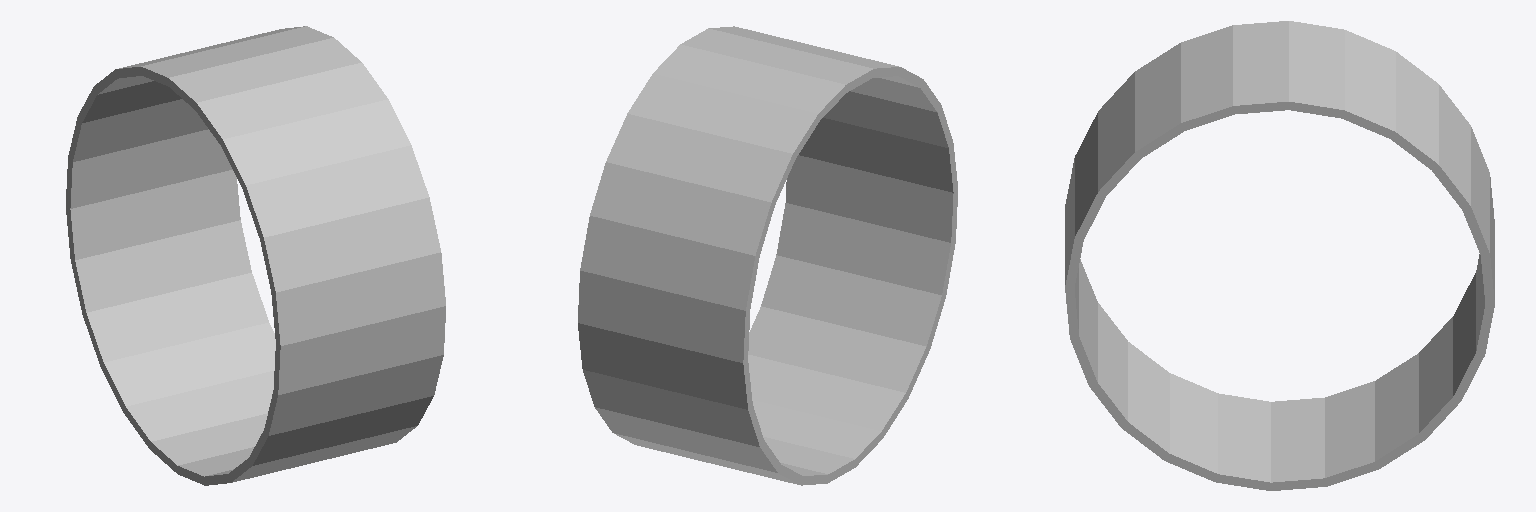
The model's file is original-59.obj.
3 renders of one model, left to right at view 1: azimuth 30°, elevation 25°; view 2: azimuth 150°, elevation 25°; view 3: azimuth 270°, elevation 25°, orthographic.
Visible parts, largest first — view 1: W-POR-1650-1_1_4_3/mesh63/mesh63-geometry#mesh63-geometry; view 2: W-POR-1650-1_1_4_3/mesh63/mesh63-geometry#mesh63-geometry; view 3: W-POR-1650-1_1_4_3/mesh63/mesh63-geometry#mesh63-geometry.
Part boxes in pixels (bbox=[...]): W-POR-1650-1_1_4_3/mesh63/mesh63-geometry#mesh63-geometry: bbox=[66, 26, 445, 485]; W-POR-1650-1_1_4_3/mesh63/mesh63-geometry#mesh63-geometry: bbox=[578, 26, 957, 485]; W-POR-1650-1_1_4_3/mesh63/mesh63-geometry#mesh63-geometry: bbox=[1065, 21, 1494, 490].
Bounding box in the file's own units: 0.0466 × 0.1047 × 0.1047.